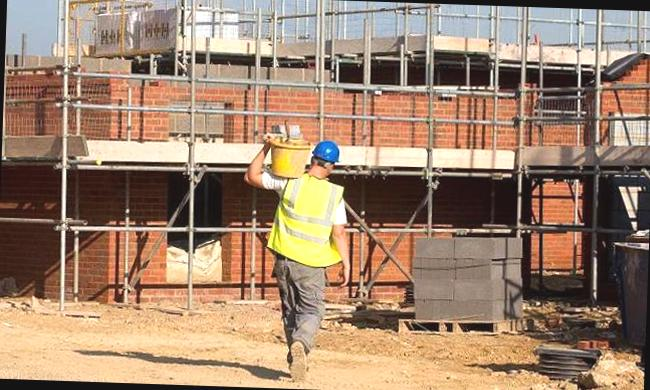helmet: (307, 138, 344, 172)
person: (252, 139, 359, 372)
